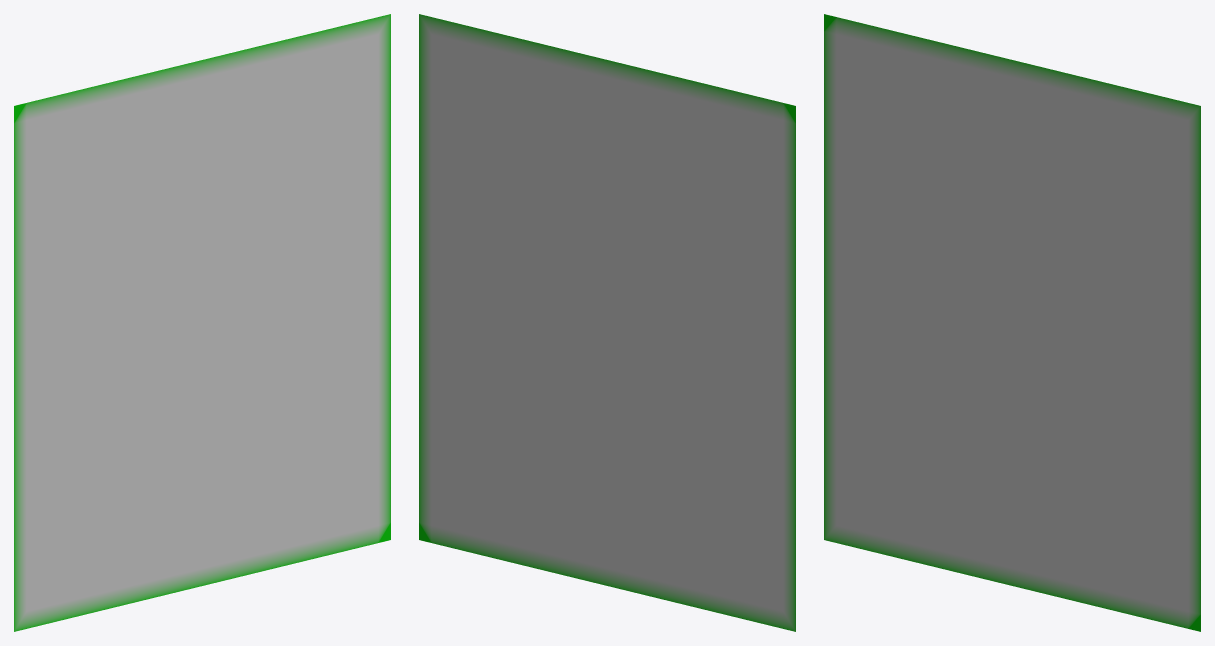
The model's file is SM_LabyrinthTile_StraightSingleB.fbx.
The picture shows the model from 3 angles, left to right: view 1: azimuth 30°, elevation 25°; view 2: azimuth 150°, elevation 25°; view 3: azimuth 330°, elevation 25°; orthographic projection.
Parts seen in each view (by area): view 1: transform31; view 2: transform31; view 3: transform31.
Boxes of the visible parts, x1,y1,x2,y2 form: transform31: [14, 14, 390, 631]; transform31: [419, 14, 795, 631]; transform31: [824, 14, 1200, 631].
Bounding box in the file's own units: 300 × 400 × 0.
